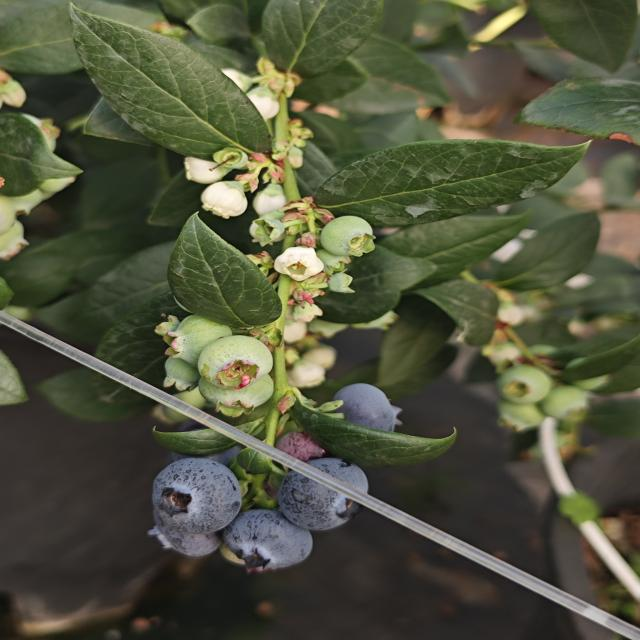ripe: (144, 448, 242, 556), (268, 452, 379, 532), (222, 510, 316, 573), (329, 381, 415, 441)
